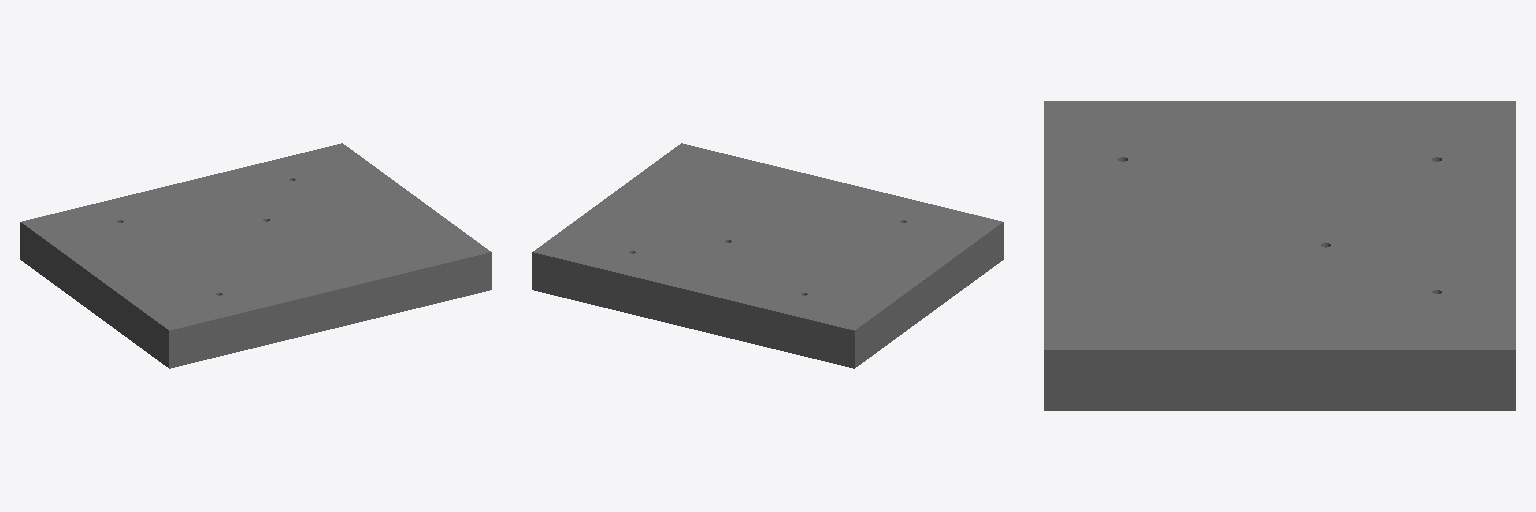
URDF robot description (push_object):
<?xml version="1.0" ?>
<robot name="push_object">
  <link name="link_x">
    <inertial>
      <mass value="0"/>
      <inertia ixx="0.0" ixy="0.0" ixz="0.0" iyy="0.0" iyz="0.0" izz="0.0"/>
    </inertial>
  </link>

  <link name="link_y">
    <inertial>
      <mass value="0"/>
      <inertia ixx="0.0" ixy="0.0" ixz="0.0" iyy="0.0" iyz="0.0" izz="0.0"/>
    </inertial>
  </link>
  
  <link name="link_z">
    <inertial>
      <mass value="0"/>
      <inertia ixx="0.0" ixy="0.0" ixz="0.0" iyy="0.0" iyz="0.0" izz="0.0"/>
    </inertial>
  </link>
  
  <link name="link_yaw">
    <inertial>
      <mass value="0"/>
      <inertia ixx="0.0" ixy="0.0" ixz="0.0" iyy="0.0" iyz="0.0" izz="0.0"/>
    </inertial>
  </link>

  <link name="link_object">
    <contact>
      <rolling_friction value="0.03"/>
      <spinning_friction value="0.03"/>
    </contact>

    <inertial>
      <origin rpy="0 0 0" xyz="0 0 0"/>
       <mass value="0.006350"/>
       <inertia ixx="1.045000" ixy="0" ixz="0" iyy="0.001810" iyz="0" izz="1"/>
    </inertial>
    <visual>
      <origin rpy="0 0 0" xyz="0 0 0.001810"/>
      <geometry>
        <mesh filename="rect2.obj" scale="1.0 1.0 1.0"/>      
      </geometry>
      <material name="gray">
        <color rgba="0.5 0.5 0.5 1"/>
        <specular rgb="1 1 1"/>
      </material>
    </visual>
    
    <collision>
      <origin rpy="0 0 0" xyz="-0.0400 -0.0400 -0.0063"/>
      <geometry>
        <sphere radius="0.0065"/>
      </geometry>
    </collision>
        
    <collision>
      <origin rpy="0 0 0" xyz="-0.0400 -0.0200 -0.0063"/>
      <geometry>
        <sphere radius="0.0065"/>
      </geometry>
    </collision>
        
    <collision>
      <origin rpy="0 0 0" xyz="-0.0400 0.0000 -0.0063"/>
      <geometry>
        <sphere radius="0.0065"/>
      </geometry>
    </collision>
        
    <collision>
      <origin rpy="0 0 0" xyz="-0.0400 0.0200 -0.0063"/>
      <geometry>
        <sphere radius="0.0065"/>
      </geometry>
    </collision>
        
    <collision>
      <origin rpy="0 0 0" xyz="-0.0400 0.0400 -0.0063"/>
      <geometry>
        <sphere radius="0.0065"/>
      </geometry>
    </collision>
        
    <collision>
      <origin rpy="0 0 0" xyz="-0.0200 -0.0400 -0.0063"/>
      <geometry>
        <sphere radius="0.0065"/>
      </geometry>
    </collision>
        
    <collision>
      <origin rpy="0 0 0" xyz="-0.0200 -0.0200 -0.0063"/>
      <geometry>
        <sphere radius="0.0065"/>
      </geometry>
    </collision>
        
    <collision>
      <origin rpy="0 0 0" xyz="-0.0200 0.0000 -0.0063"/>
      <geometry>
        <sphere radius="0.0065"/>
      </geometry>
    </collision>
        
    <collision>
      <origin rpy="0 0 0" xyz="-0.0200 0.0200 -0.0063"/>
      <geometry>
        <sphere radius="0.0065"/>
      </geometry>
    </collision>
        
    <collision>
      <origin rpy="0 0 0" xyz="-0.0200 0.0400 -0.0063"/>
      <geometry>
        <sphere radius="0.0065"/>
      </geometry>
    </collision>
        
    <collision>
      <origin rpy="0 0 0" xyz="0.0000 -0.0400 -0.0063"/>
      <geometry>
        <sphere radius="0.0065"/>
      </geometry>
    </collision>
        
    <collision>
      <origin rpy="0 0 0" xyz="0.0000 -0.0200 -0.0063"/>
      <geometry>
        <sphere radius="0.0065"/>
      </geometry>
    </collision>
        
    <collision>
      <origin rpy="0 0 0" xyz="0.0000 0.0000 -0.0063"/>
      <geometry>
        <sphere radius="0.0065"/>
      </geometry>
    </collision>
        
    <collision>
      <origin rpy="0 0 0" xyz="0.0000 0.0200 -0.0063"/>
      <geometry>
        <sphere radius="0.0065"/>
      </geometry>
    </collision>
        
    <collision>
      <origin rpy="0 0 0" xyz="0.0000 0.0400 -0.0063"/>
      <geometry>
        <sphere radius="0.0065"/>
      </geometry>
    </collision>
        
    <collision>
      <origin rpy="0 0 0" xyz="0.0200 -0.0400 -0.0063"/>
      <geometry>
        <sphere radius="0.0065"/>
      </geometry>
    </collision>
        
    <collision>
      <origin rpy="0 0 0" xyz="0.0200 -0.0200 -0.0063"/>
      <geometry>
        <sphere radius="0.0065"/>
      </geometry>
    </collision>
        
    <collision>
      <origin rpy="0 0 0" xyz="0.0200 0.0000 -0.0063"/>
      <geometry>
        <sphere radius="0.0065"/>
      </geometry>
    </collision>
        
    <collision>
      <origin rpy="0 0 0" xyz="0.0200 0.0200 -0.0063"/>
      <geometry>
        <sphere radius="0.0065"/>
      </geometry>
    </collision>
        
    <collision>
      <origin rpy="0 0 0" xyz="0.0200 0.0400 -0.0063"/>
      <geometry>
        <sphere radius="0.0065"/>
      </geometry>
    </collision>
        
    <collision>
      <origin rpy="0 0 0" xyz="0.0400 -0.0400 -0.0063"/>
      <geometry>
        <sphere radius="0.0065"/>
      </geometry>
    </collision>
        
    <collision>
      <origin rpy="0 0 0" xyz="0.0400 -0.0200 -0.0063"/>
      <geometry>
        <sphere radius="0.0065"/>
      </geometry>
    </collision>
        
    <collision>
      <origin rpy="0 0 0" xyz="0.0400 0.0000 -0.0063"/>
      <geometry>
        <sphere radius="0.0065"/>
      </geometry>
    </collision>
        
    <collision>
      <origin rpy="0 0 0" xyz="0.0400 0.0200 -0.0063"/>
      <geometry>
        <sphere radius="0.0065"/>
      </geometry>
    </collision>
        
    <collision>
      <origin rpy="0 0 0" xyz="0.0400 0.0400 -0.0063"/>
      <geometry>
        <sphere radius="0.0065"/>
      </geometry>
    </collision>
        
  </link>
  
  <joint name="joint_x" type="prismatic">
    <axis xyz="1 0 0"/>
    <origin xyz="0.0 0.0 0"/>
    <parent link="link_x"/>
    <child link="link_y"/>
    <limit effort="1000.0" lower="-15" upper="15" velocity="5"/>
  </joint>

  <joint name="joint_y" type="prismatic">
    <axis xyz="0 1 0"/>
    <origin xyz="0.0 0.0 0"/>
    <parent link="link_y"/>
    <child link="link_z"/>
    <limit effort="1000.0" lower="-15" upper="15" velocity="5"/>
  </joint>

  <joint name="joint_z" type="prismatic">
    <axis xyz="0 0 1"/>
    <origin xyz="0.0 0.0 0"/>
    <parent link="link_z"/>
    <child link="link_yaw"/>
    <limit effort="1000.0" lower="-15" upper="15" velocity="5"/>
  </joint>

  <joint name="joint_yaw" type="continuous">
    <axis xyz="0 0 1"/>
    <origin xyz="0.0 0.0 0"/>
    <parent link="link_yaw"/>
    <child link="link_object"/>
  </joint>
</robot>

--- Facts derived from the render (not from the file) ---
Views: 3 orthographic renders of the robot side by side, from view 1: azimuth 30°, elevation 25°; view 2: azimuth 150°, elevation 25°; view 3: azimuth 270°, elevation 25°.
Robot: push_object — 5 links, 4 joints (1 continuous, 3 prismatic); root link link_x; default pose: every joint at zero.
Visible links, largest first — view 1: link_object; view 2: link_object; view 3: link_object.
Link boxes in pixels (box(x1,y1,x2,y2)): link_object: box(20, 143, 491, 368); link_object: box(532, 143, 1003, 368); link_object: box(1044, 101, 1515, 410).
Bounding box of the posed robot: 0.1125 × 0.09 × 0.0127 m (x, y, z).
Meshes: 1 distinct files referenced, 1 mesh visuals loaded (1 OBJ).